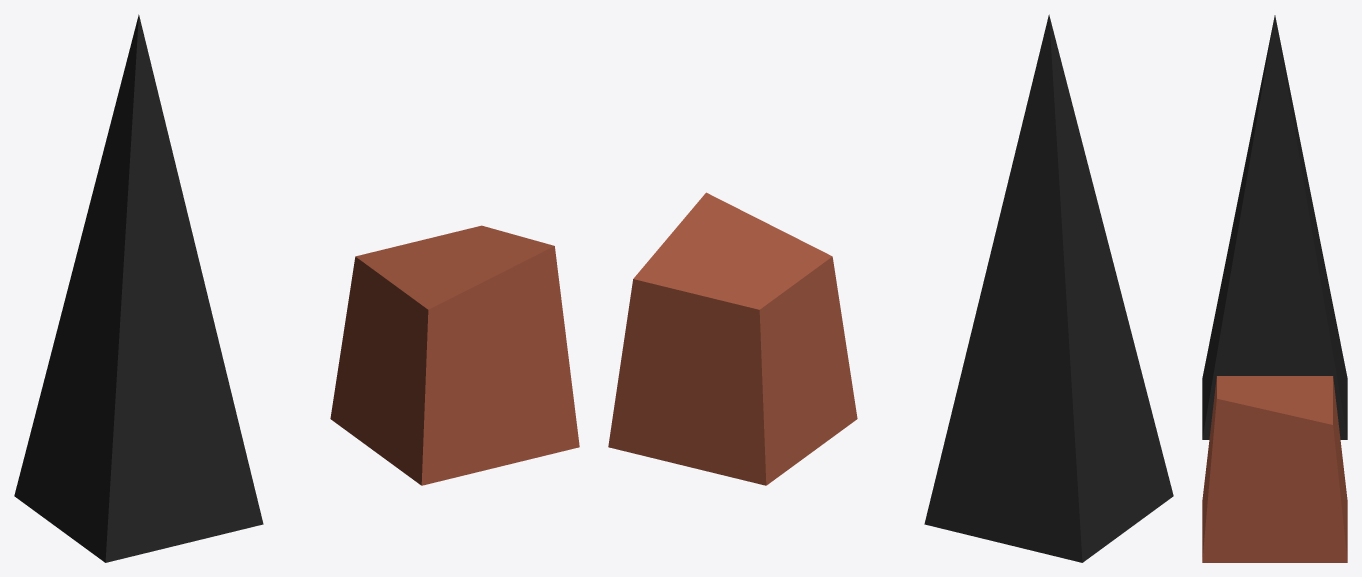
File: LAST_DELIVERY_Props.fbx
3 views of the same model, side by side, from view 1: azimuth 30°, elevation 25°; view 2: azimuth 150°, elevation 25°; view 3: azimuth 270°, elevation 25° (orthographic). The views are drawn at different scales.
Parts seen in each view (by area): view 1: Obsidian_Monolith, DeliveryBox_Anomaly; view 2: Obsidian_Monolith, DeliveryBox_Anomaly; view 3: Obsidian_Monolith, DeliveryBox_Anomaly.
Boxes of the visible parts, x1,y1,x2,y2 form: Obsidian_Monolith: (14,14,263,562); DeliveryBox_Anomaly: (330,225,579,485); Obsidian_Monolith: (924,14,1173,562); DeliveryBox_Anomaly: (608,192,857,485); Obsidian_Monolith: (1202,15,1347,439); DeliveryBox_Anomaly: (1202,376,1347,562).
Bounding box in the file's own units: 300 × 300 × 100.
